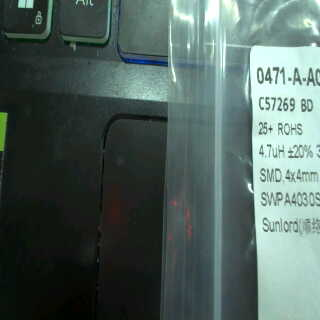4.7uH: (254, 141, 289, 160)
